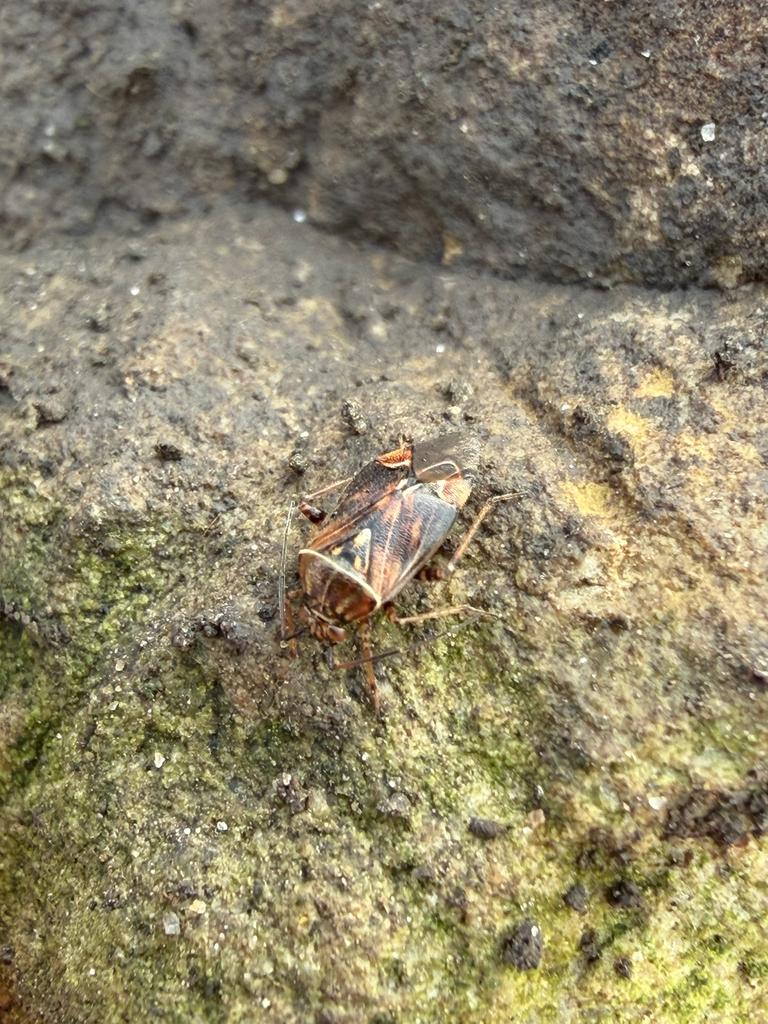plant_bugs: (235, 396, 572, 697)
